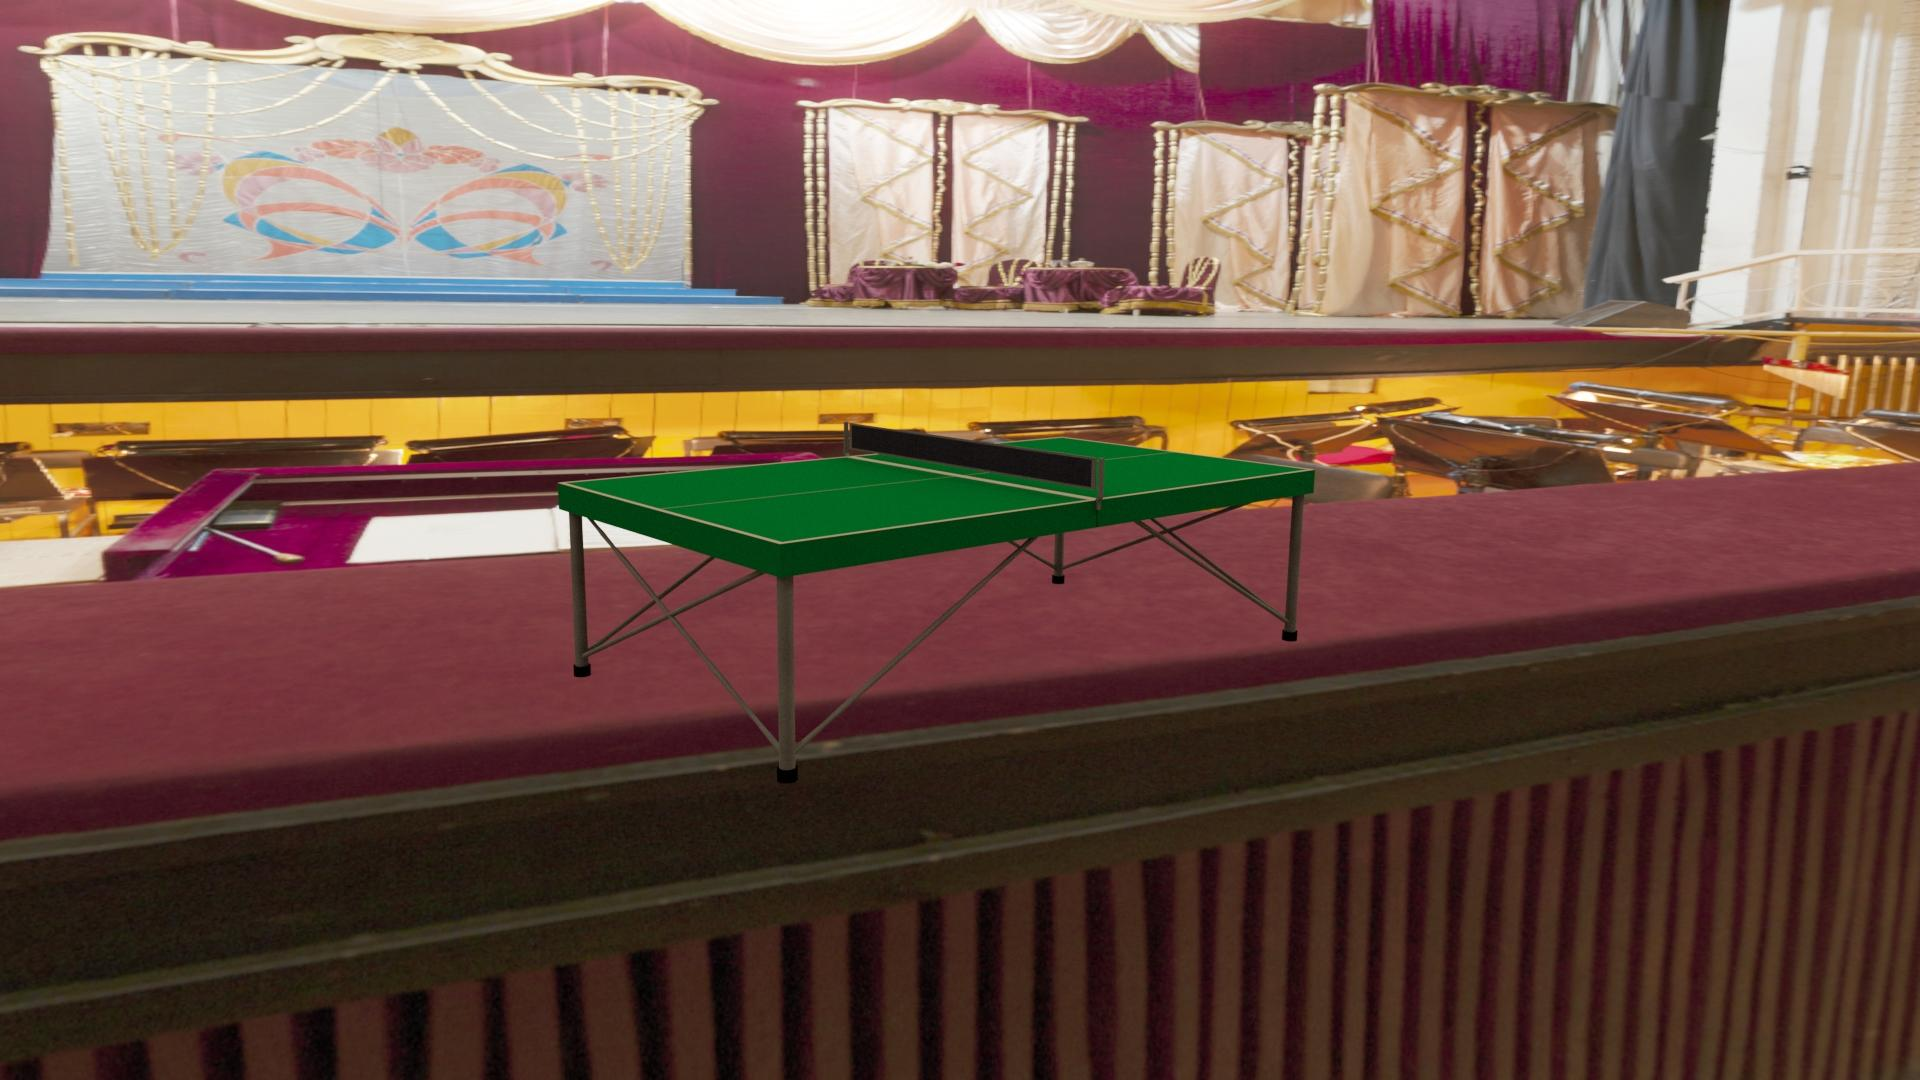table: (564, 438, 1308, 542)
